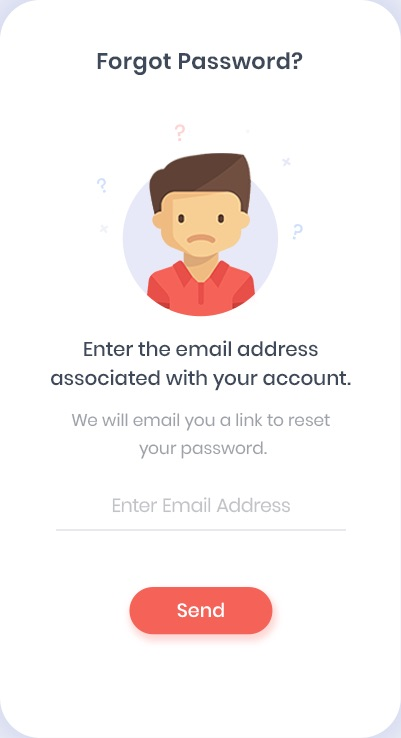EditText: (56, 496, 347, 532)
Image: (97, 124, 304, 318)
Text: (51, 341, 352, 392), (71, 412, 331, 460), (97, 52, 303, 77), (113, 497, 290, 513)
TextButton: (129, 586, 274, 635)
